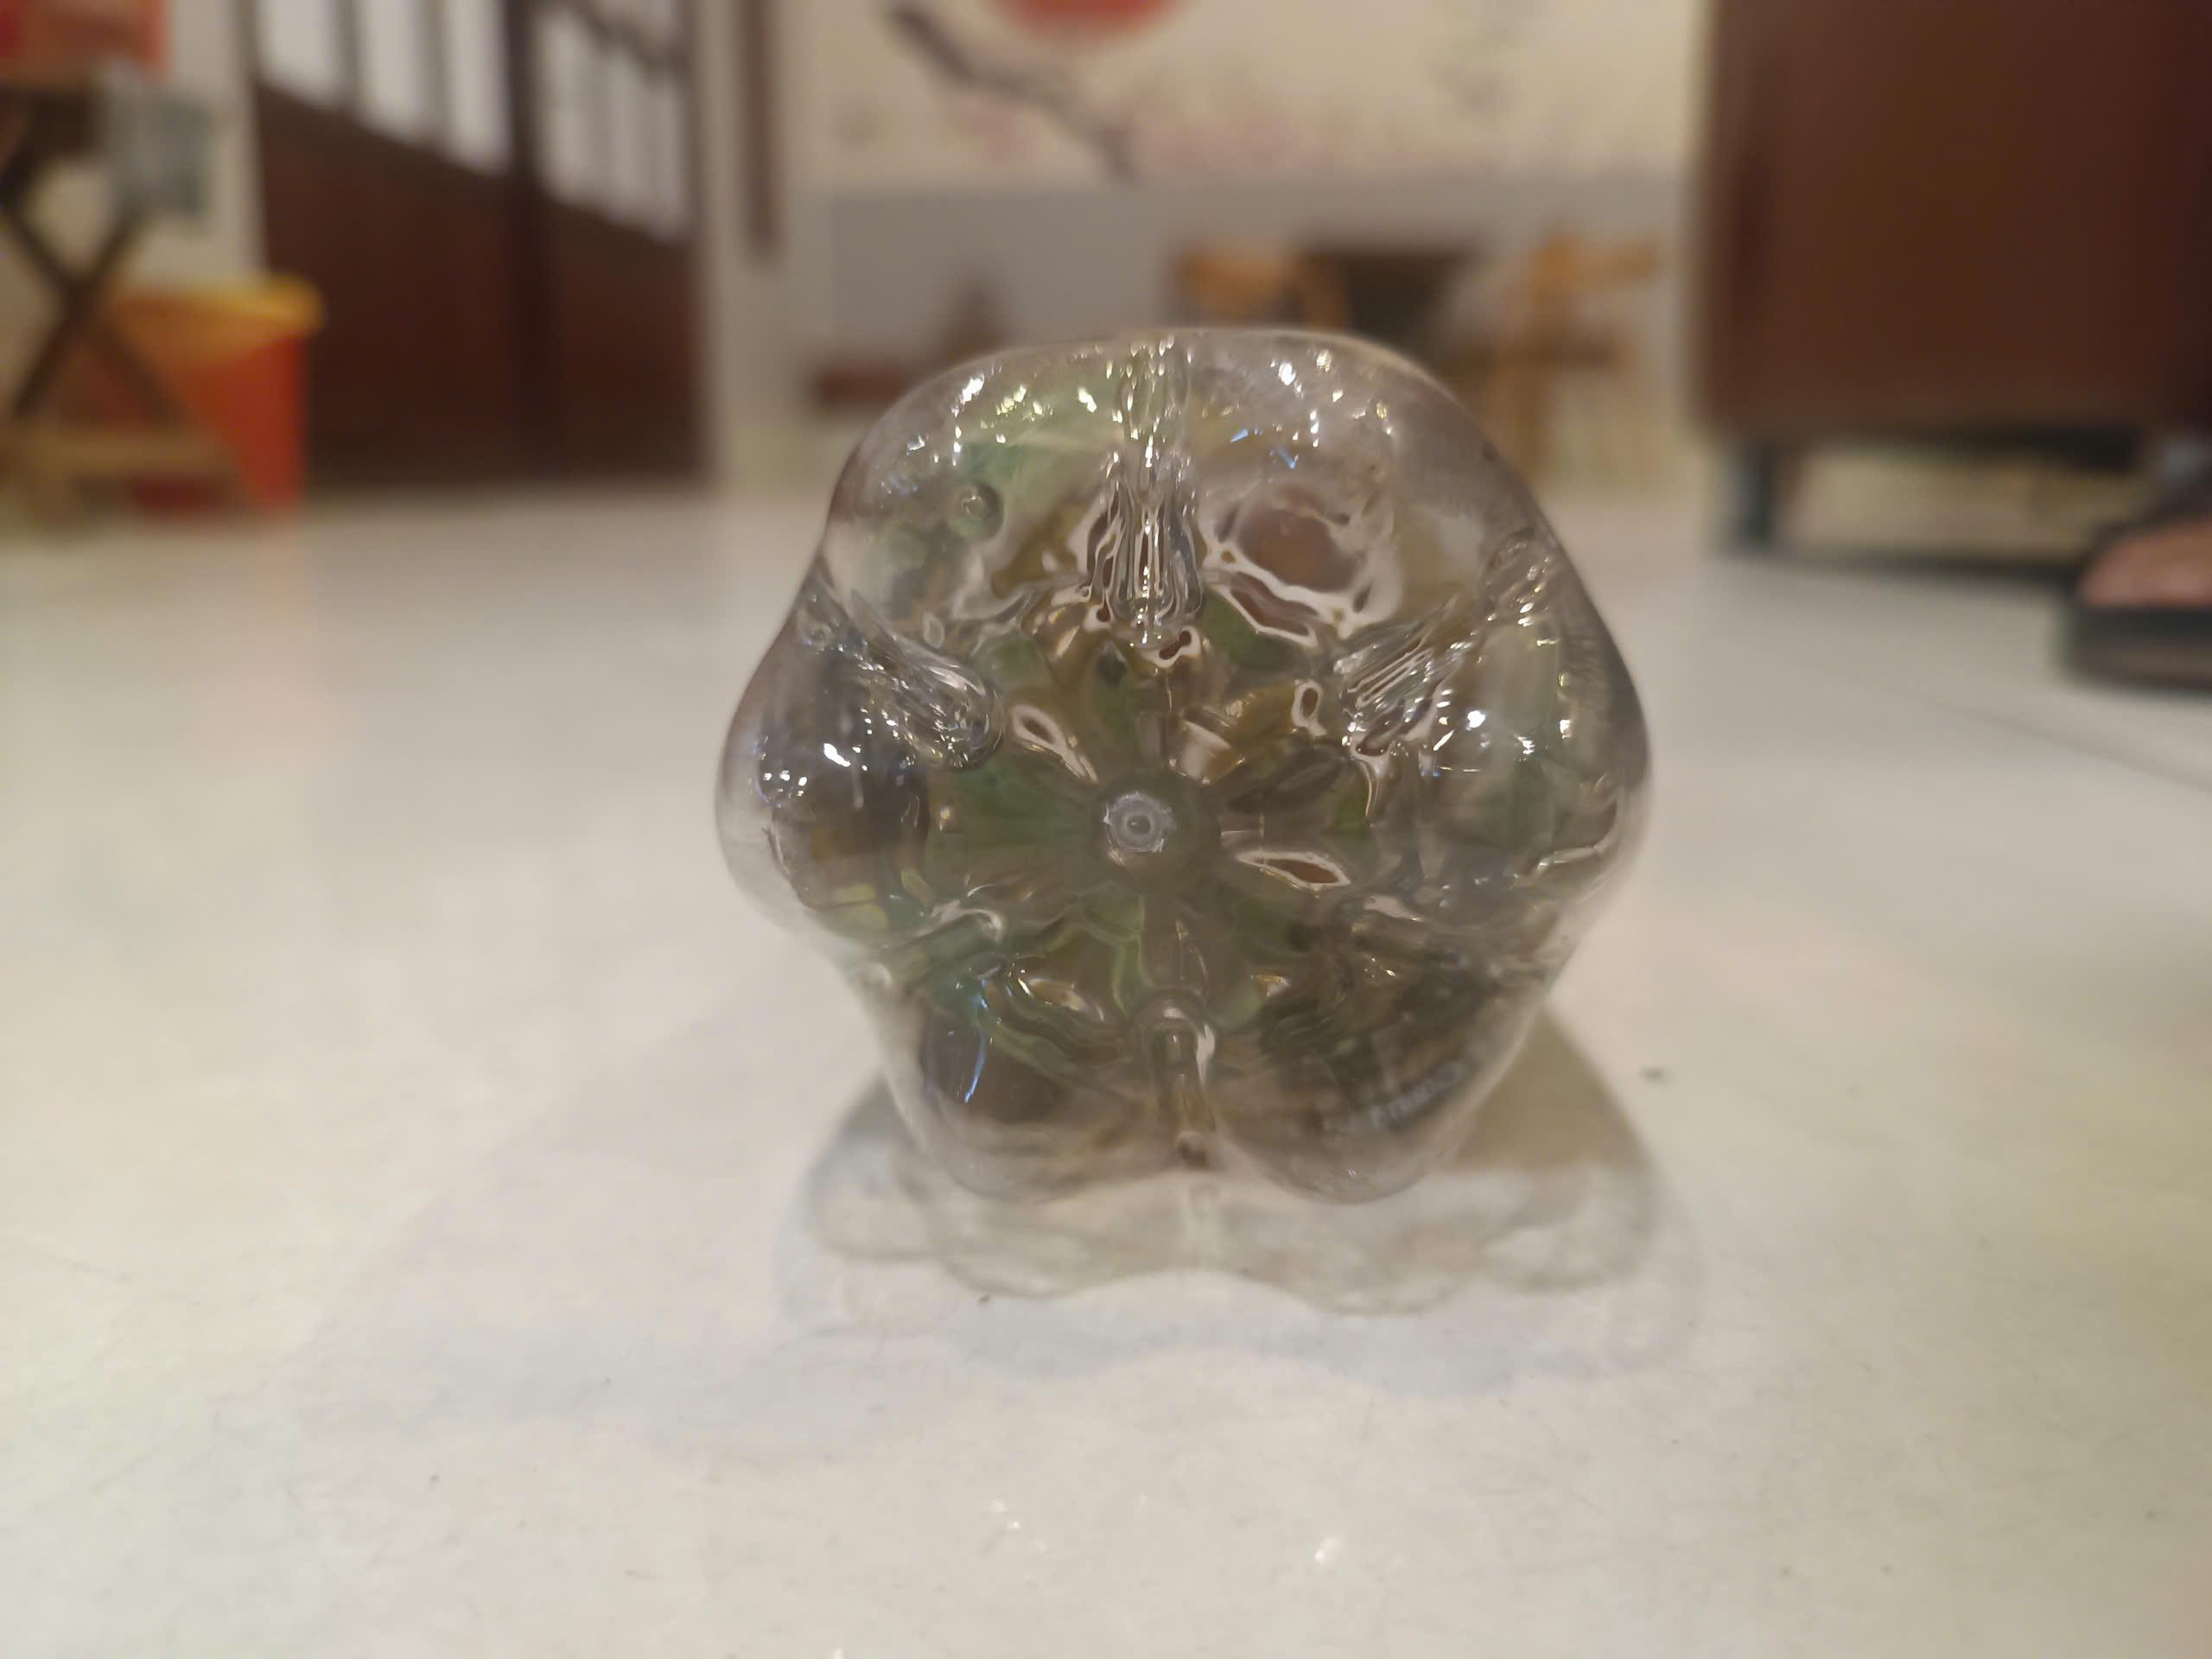Vo co: (711, 331, 1653, 1194)
